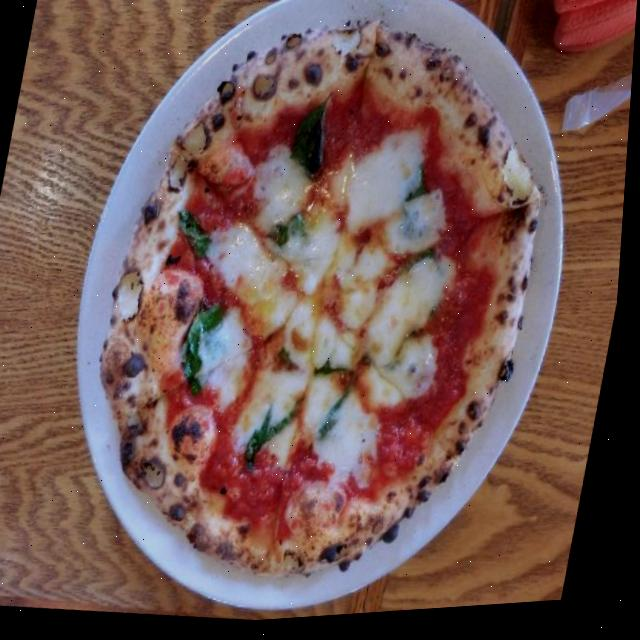汉堡快餐: (13, 0, 627, 638)
